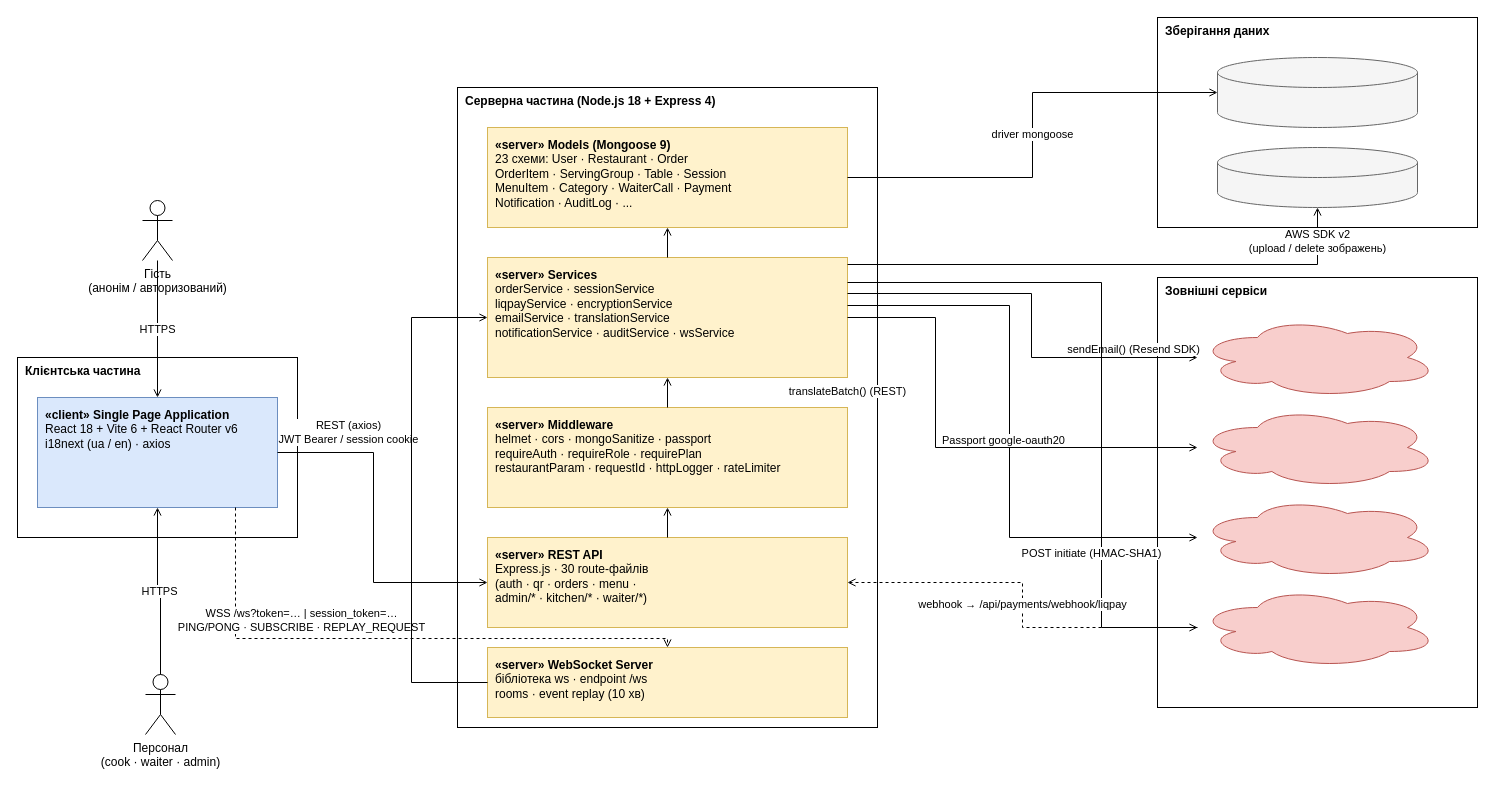
The diagram is 1495 pixels wide and 788 high, and some of its shapes have lost their labels. Each missing label, with the centre of its shape:
«external» Google OAuth 2.0 через Passport.js: the point at 1317,537
«external» Google Translate API автопереклад (Premium): the point at 1317,447
«external» LiqPay платіжний шлюз: the point at 1317,627
«external» Resend транзакційні email (React JSX-шаблони): the point at 1317,357
«storage» AWS S3 зображення страв: the point at 1317,177
«storage» MongoDB Atlas (replica set, EU Central 1): the point at 1317,92
